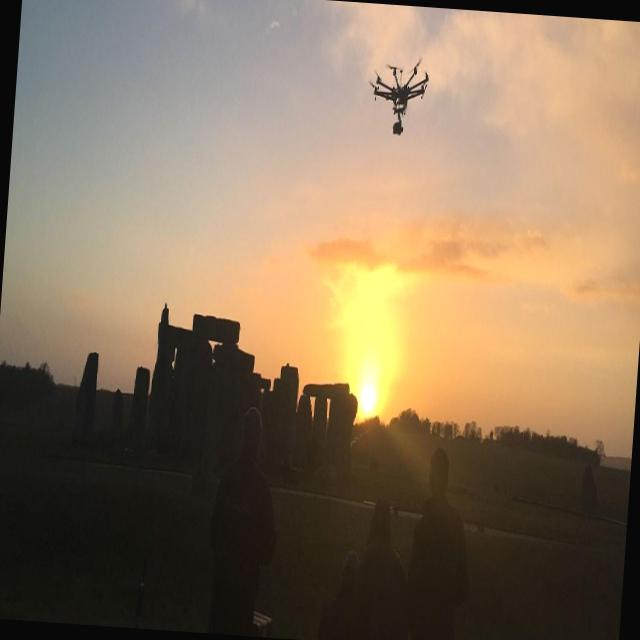drone: (365, 51, 432, 142)
